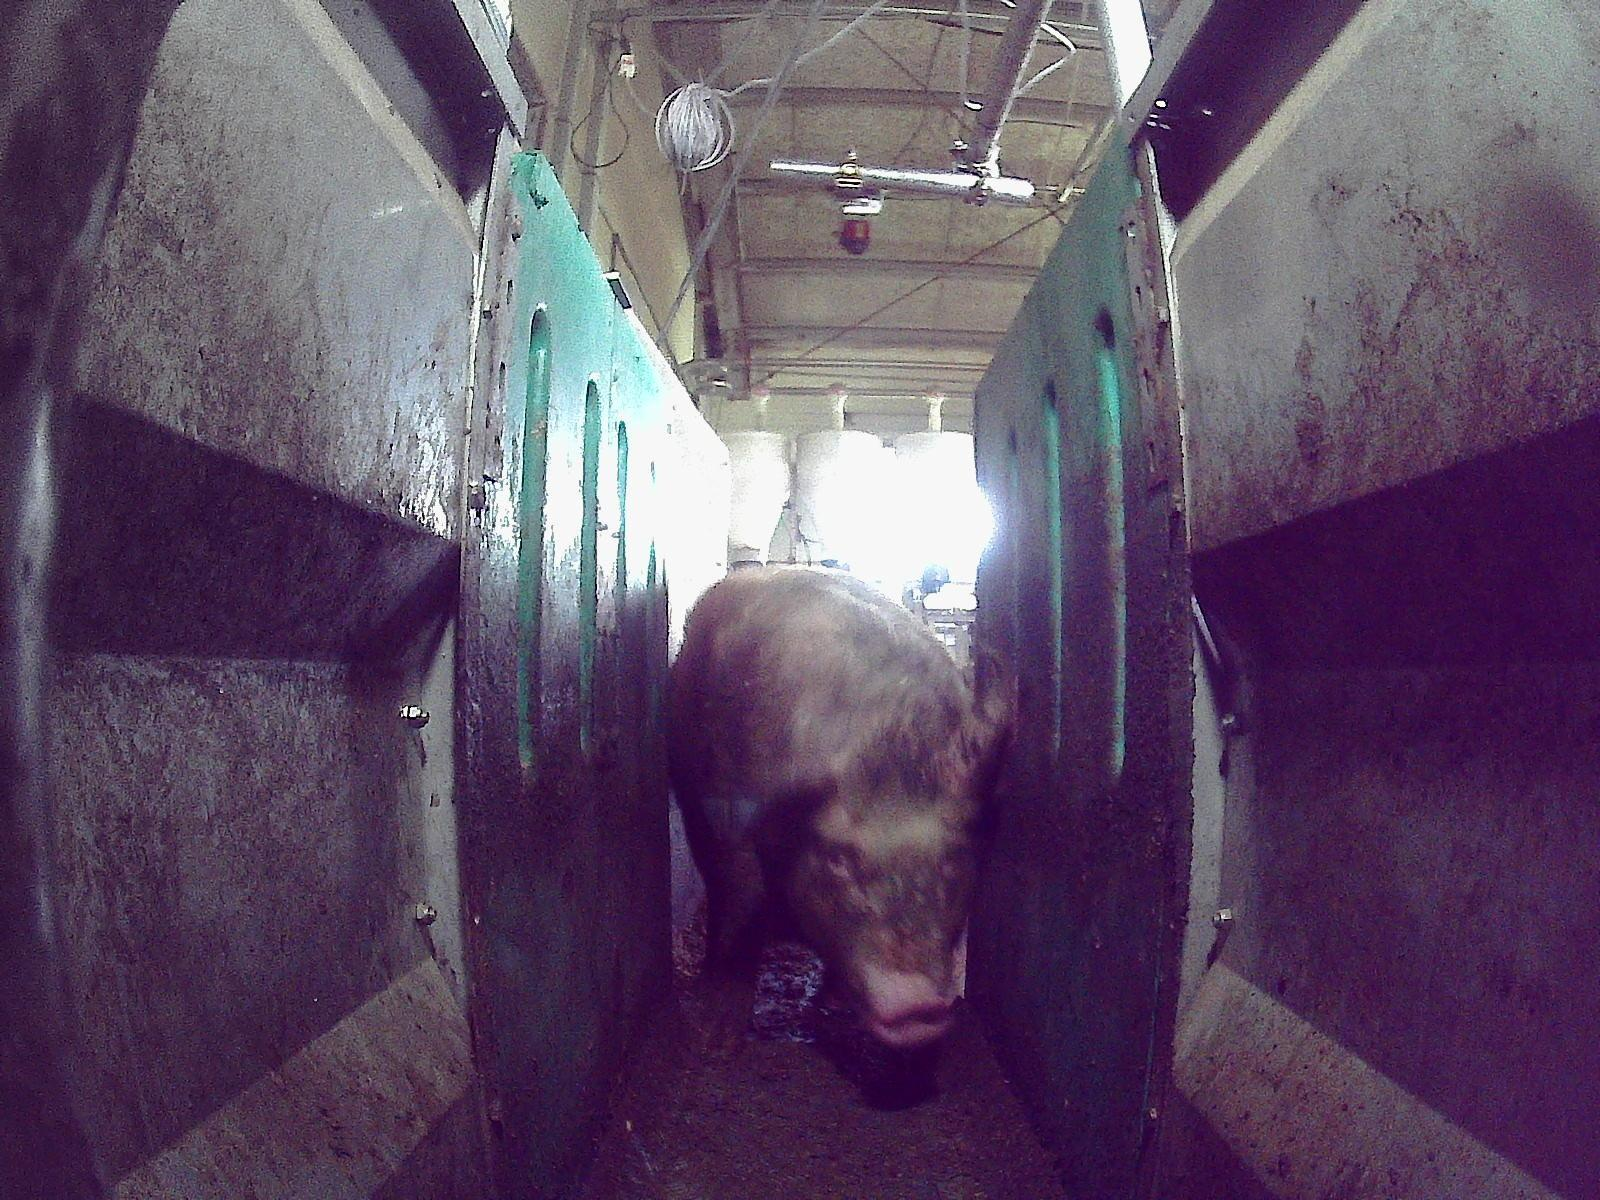Face: (784, 745, 986, 1043)
